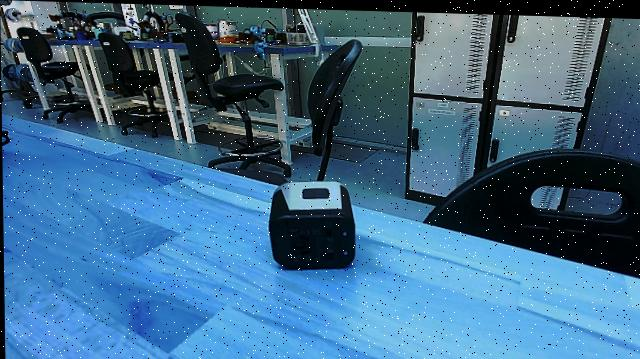adapter: (266, 173, 361, 276)
